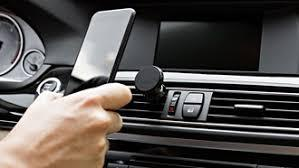Hand: (25, 84, 133, 168)
Smartphone: (65, 7, 134, 100)
